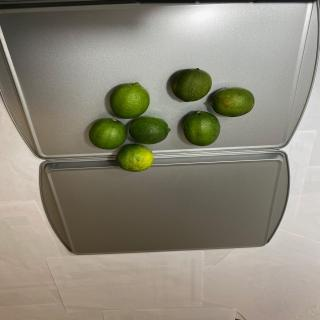Chilli: (87, 67, 255, 172)
Lemon: (109, 82, 150, 119), (210, 86, 255, 117), (171, 68, 212, 102), (183, 110, 220, 146), (89, 118, 128, 150), (128, 116, 170, 144), (116, 143, 154, 172)
